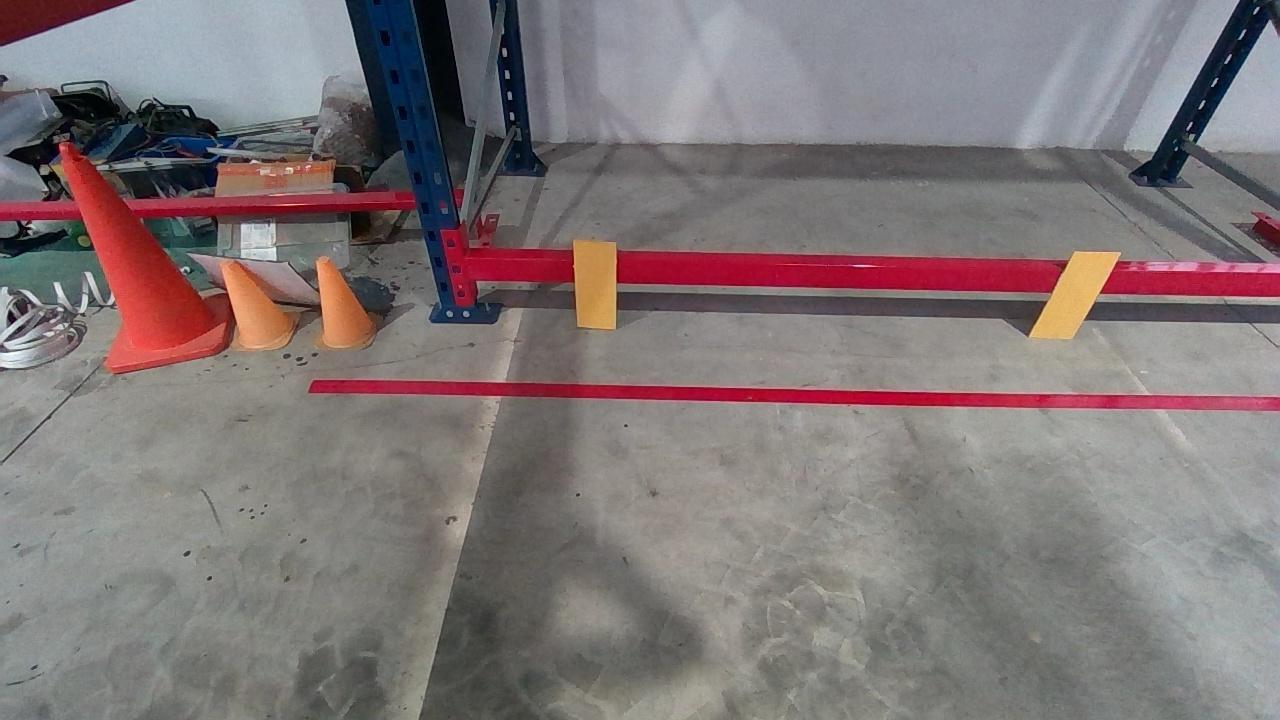h_rack: (472, 255, 1271, 297)
orange_strip: (1027, 252, 1127, 339), (571, 239, 617, 327)
red_line: (309, 379, 1275, 410)
